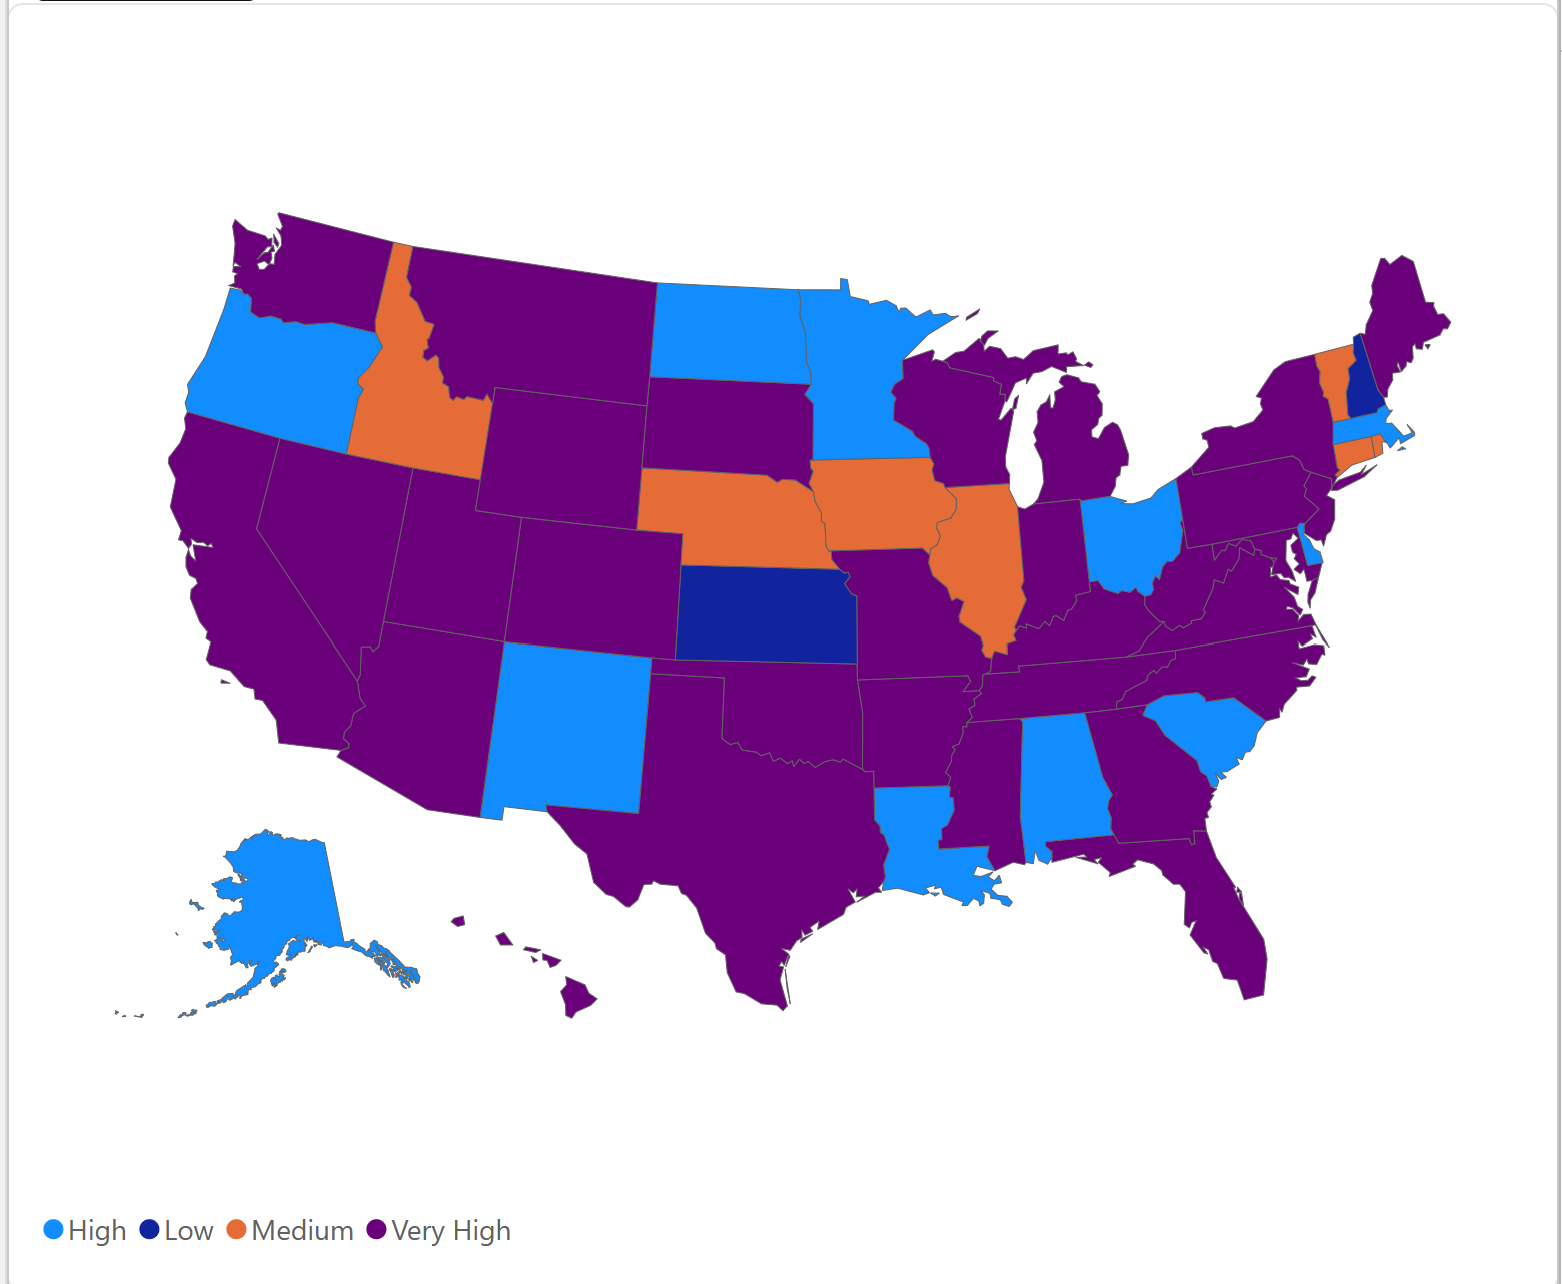

The page's visual inventory and layout, read from the dashboard file:
{"tool":"powerbi","page":{"name":"Page 3","canvas":[1920,1080],"ordinal":2},"visuals":[{"type":"shapeMap","fields":{"Category":["Main_State_Data.StateID"],"Series":["Main_State_Data.VisitBucket"],"Value":["Avg(Main_State_Data.Value)"]},"box":[10.1,0,1741.6,1080.6],"z":0}]}

Visuals, with their boxes on the page's 1920x1080 design canvas (x1, y1, x2, y2). These are canvas units, not pixel positions in the 1562x1284 screenshot, which may show the page scaled, cropped or inside an application window:
shapeMap - Main_State_Data.StateID x Main_State_Data.VisitBucket: {"x1": 10, "y1": 0, "x2": 1752, "y2": 1081}
